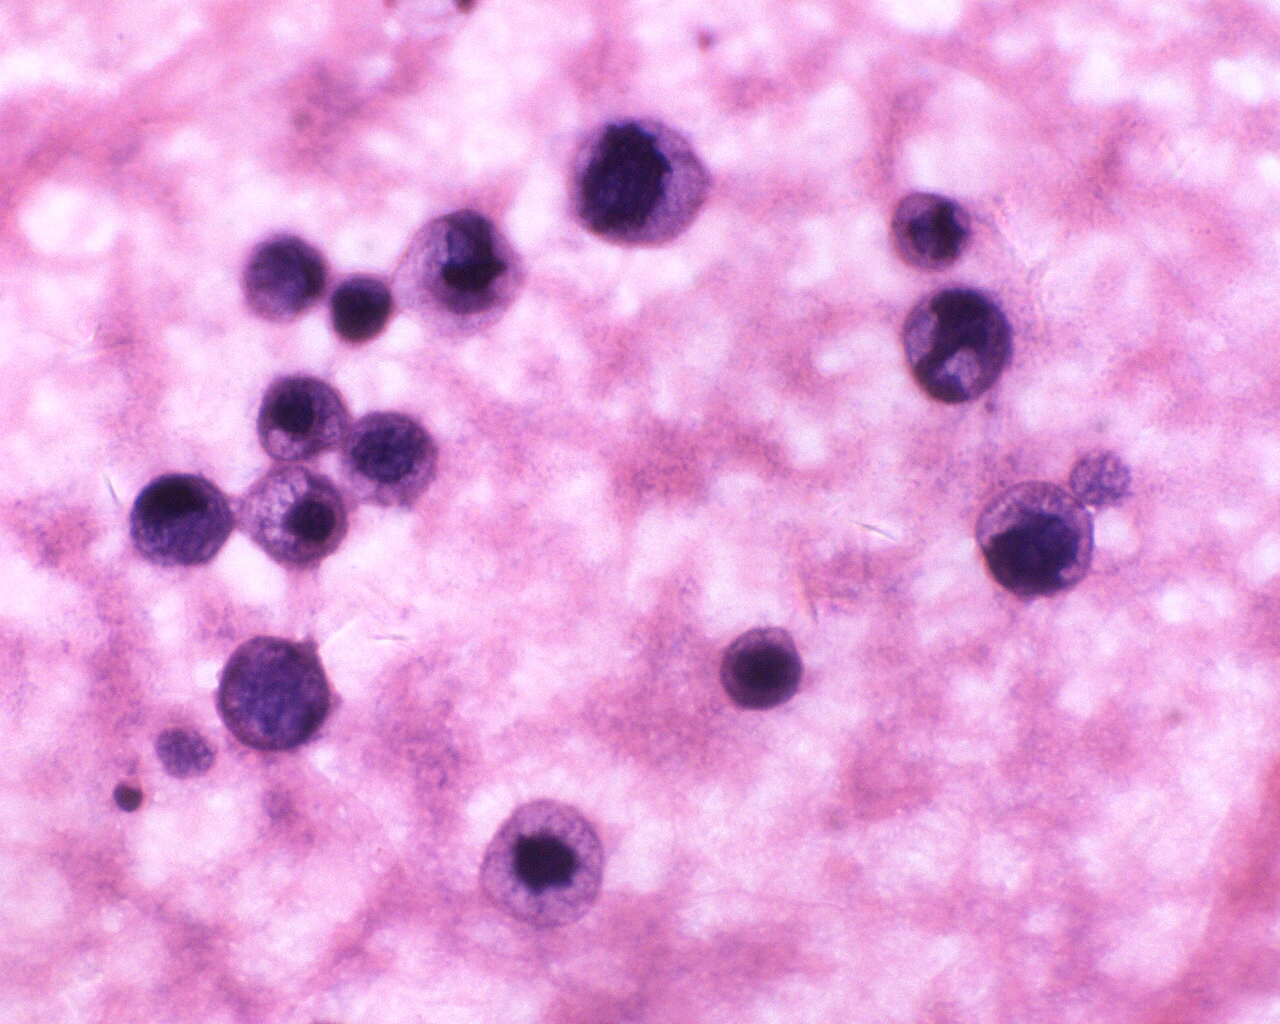ab: (574, 111, 713, 253), (474, 795, 611, 927), (967, 473, 1100, 601), (897, 283, 1018, 404), (239, 461, 360, 569), (127, 473, 242, 569), (251, 371, 352, 471), (719, 621, 807, 715), (884, 187, 974, 271), (328, 271, 399, 350)
